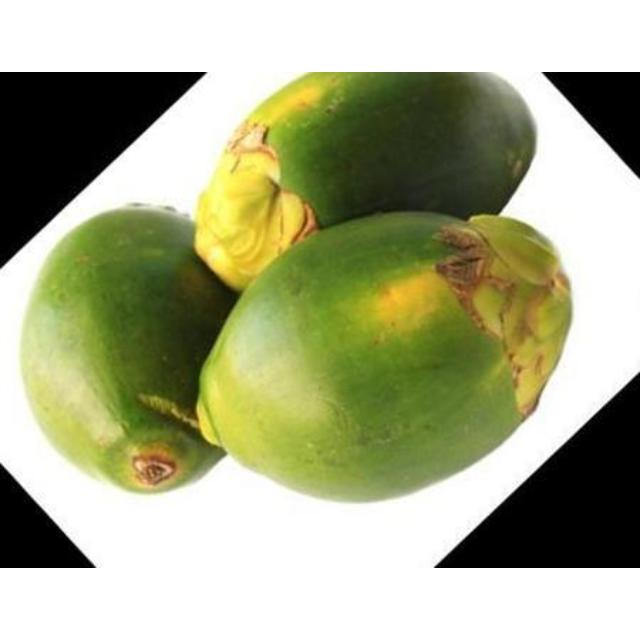good: (193, 211, 576, 503), (195, 72, 536, 294), (14, 203, 240, 502)
